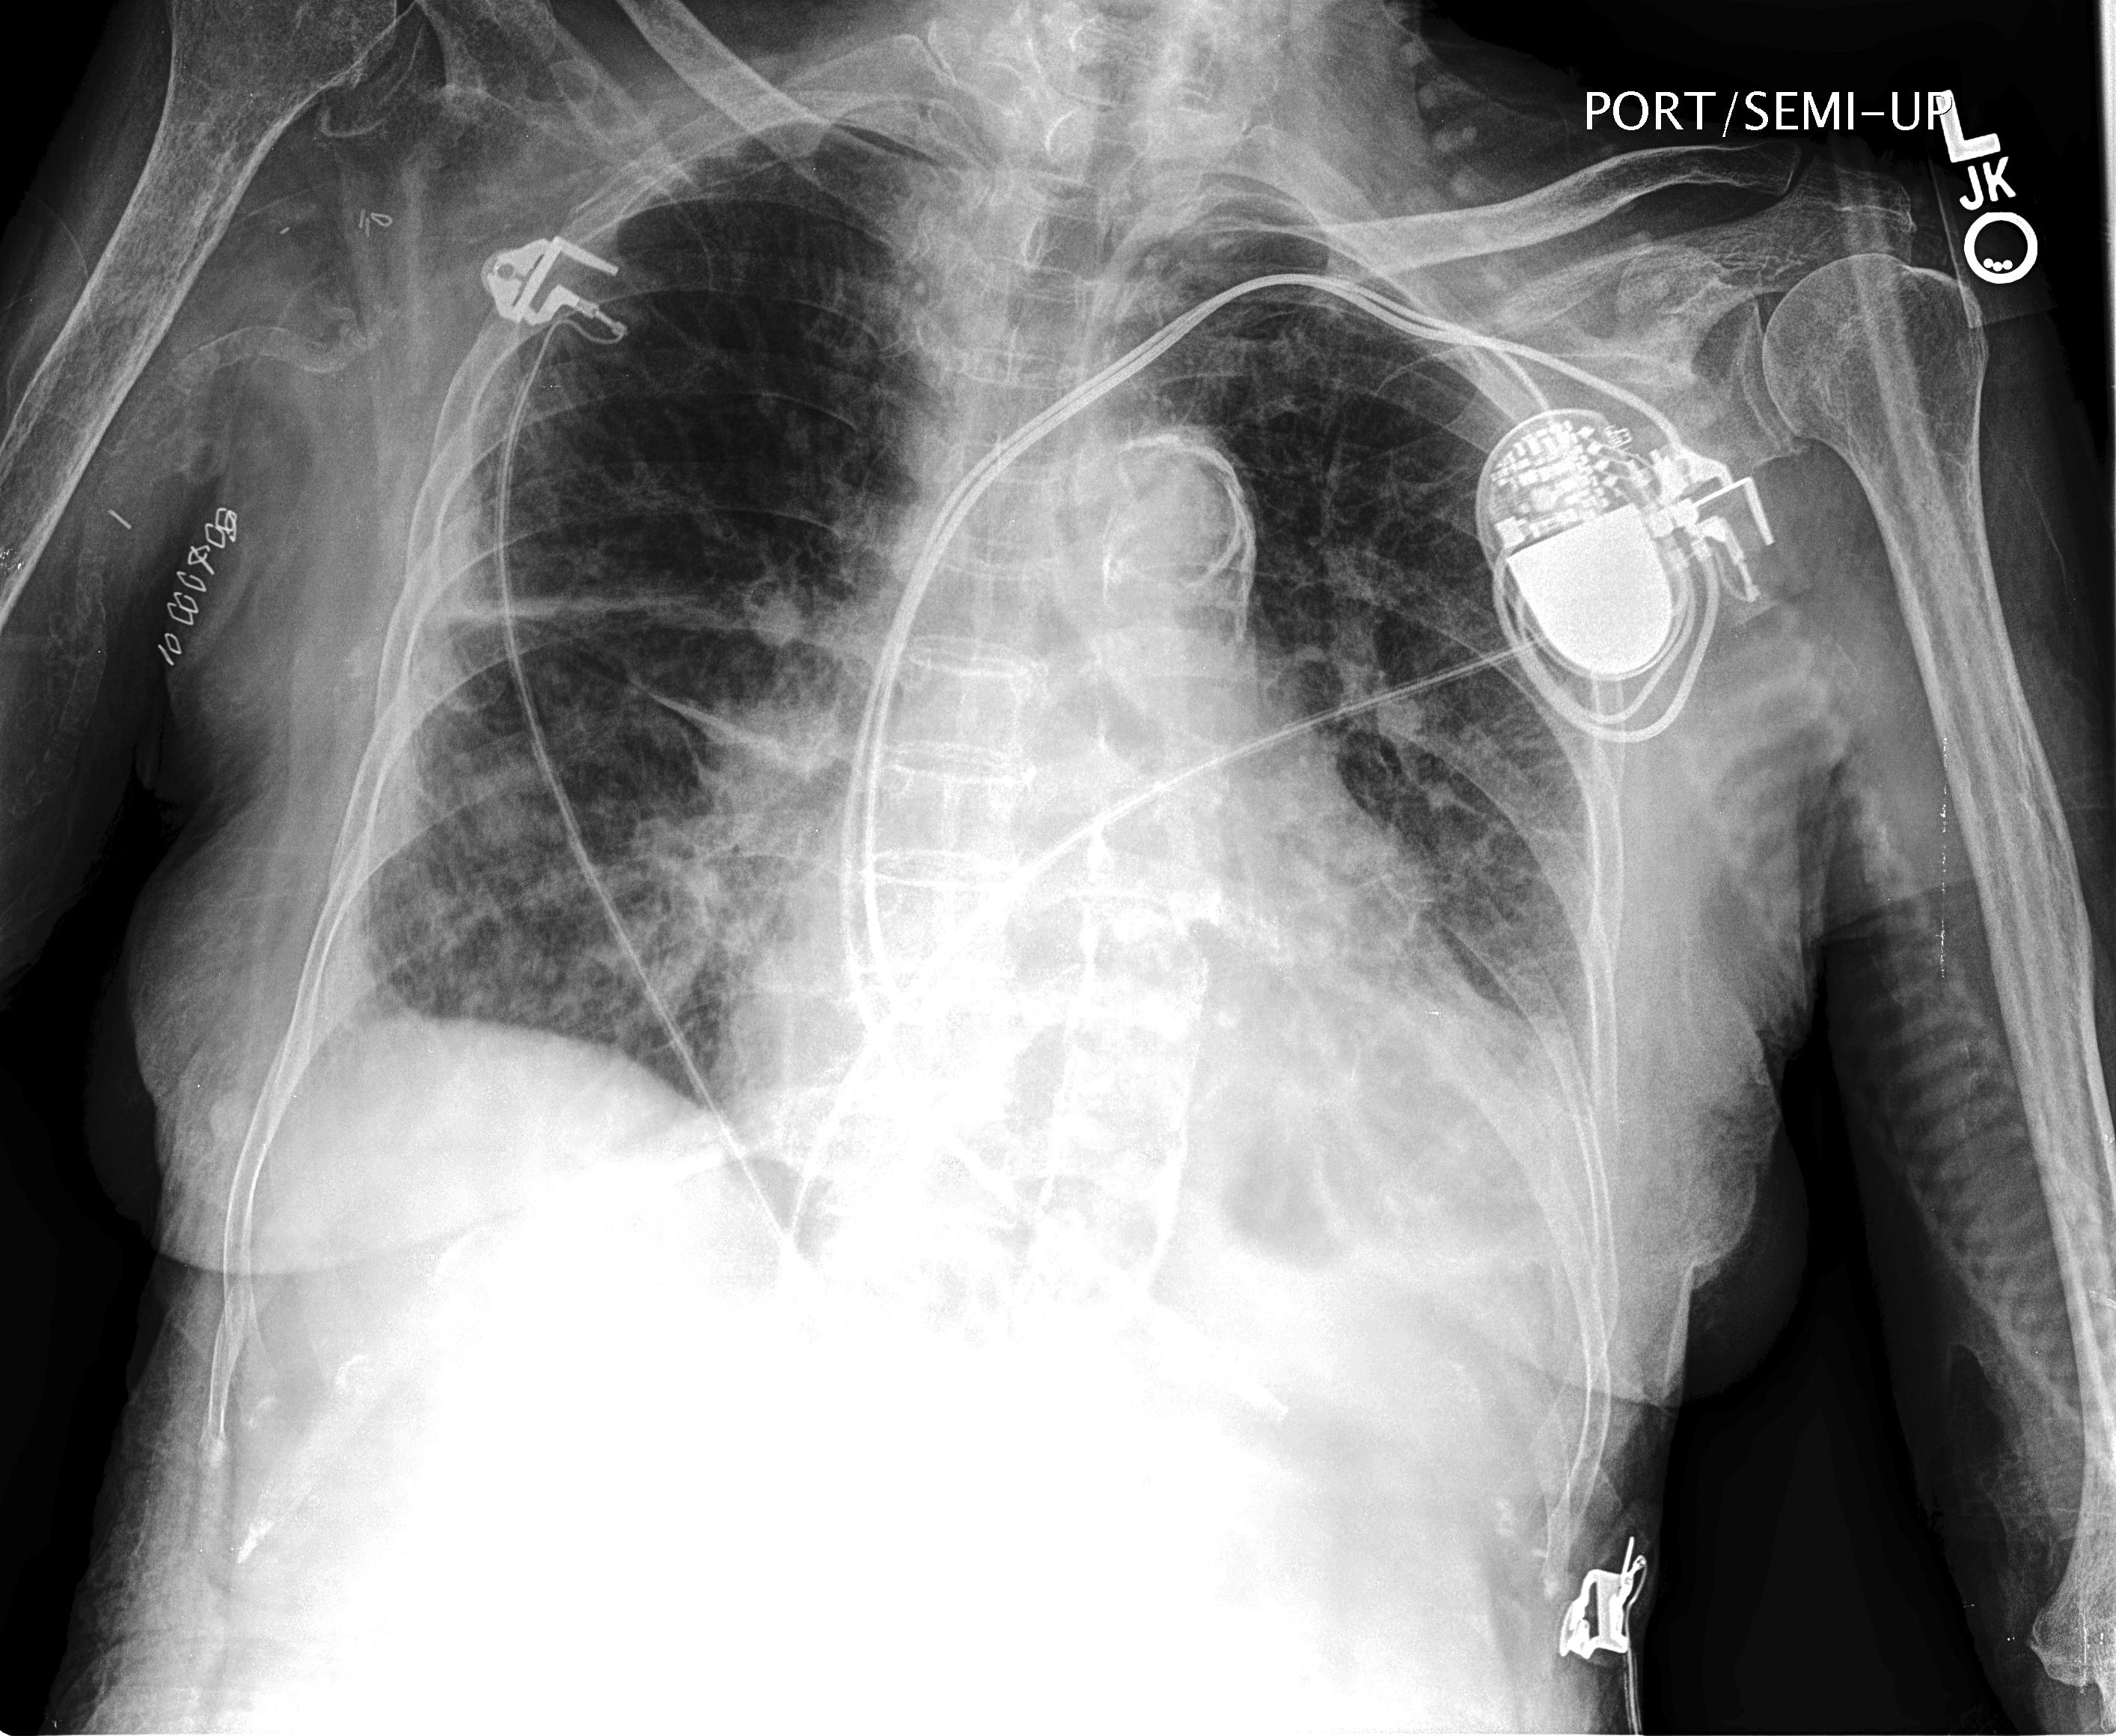Pleural Effusion: (1244, 1061, 1643, 1471)
